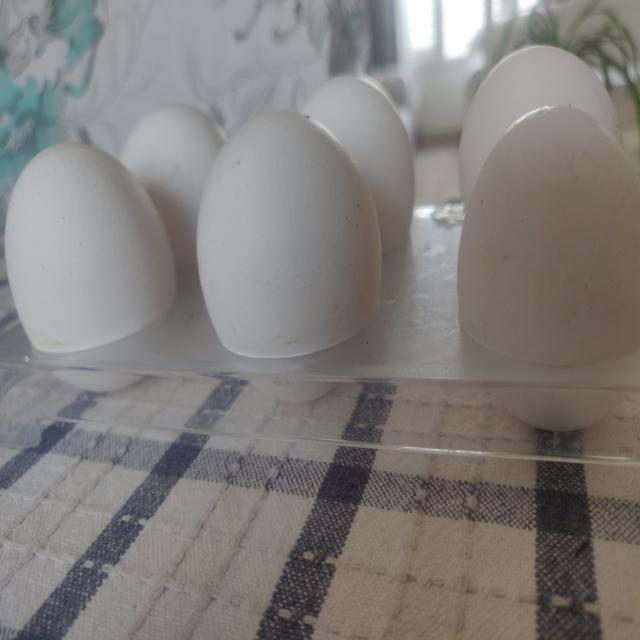Egg: (458, 104, 640, 365), (197, 109, 381, 358), (4, 143, 176, 352), (459, 44, 623, 204), (302, 75, 415, 252), (120, 103, 227, 267)
